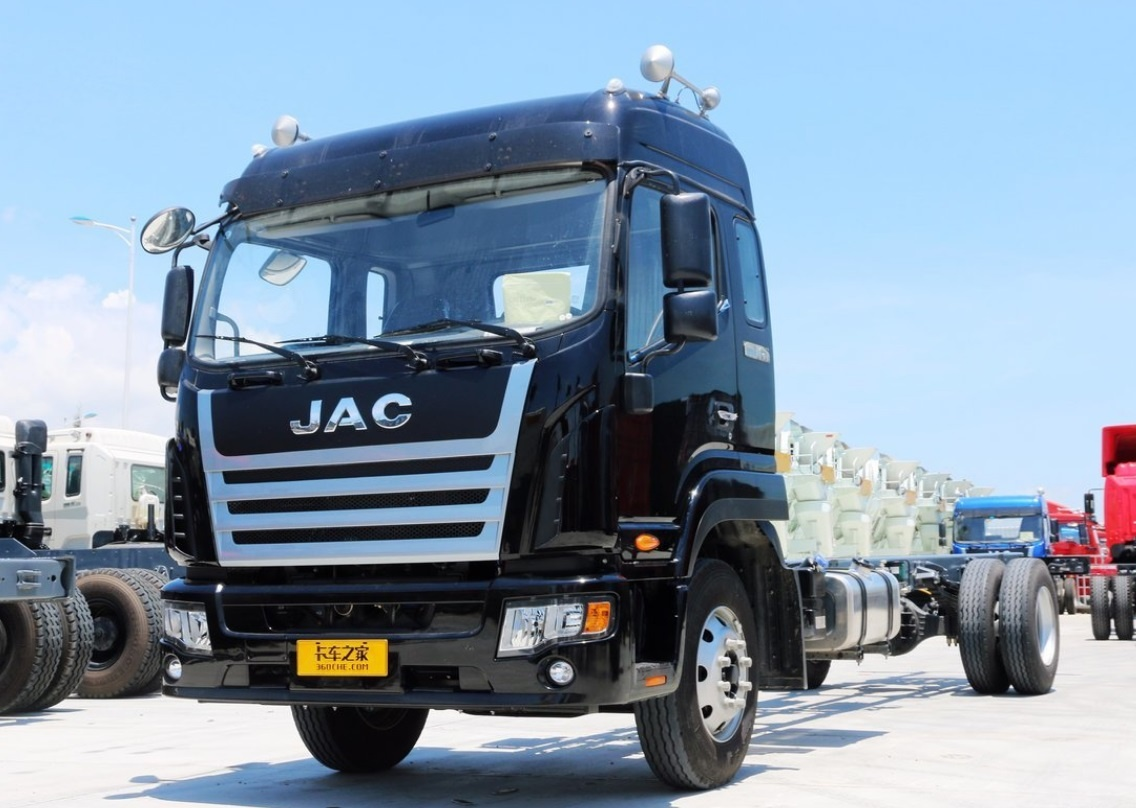heavy truck: (127, 77, 1066, 808)
